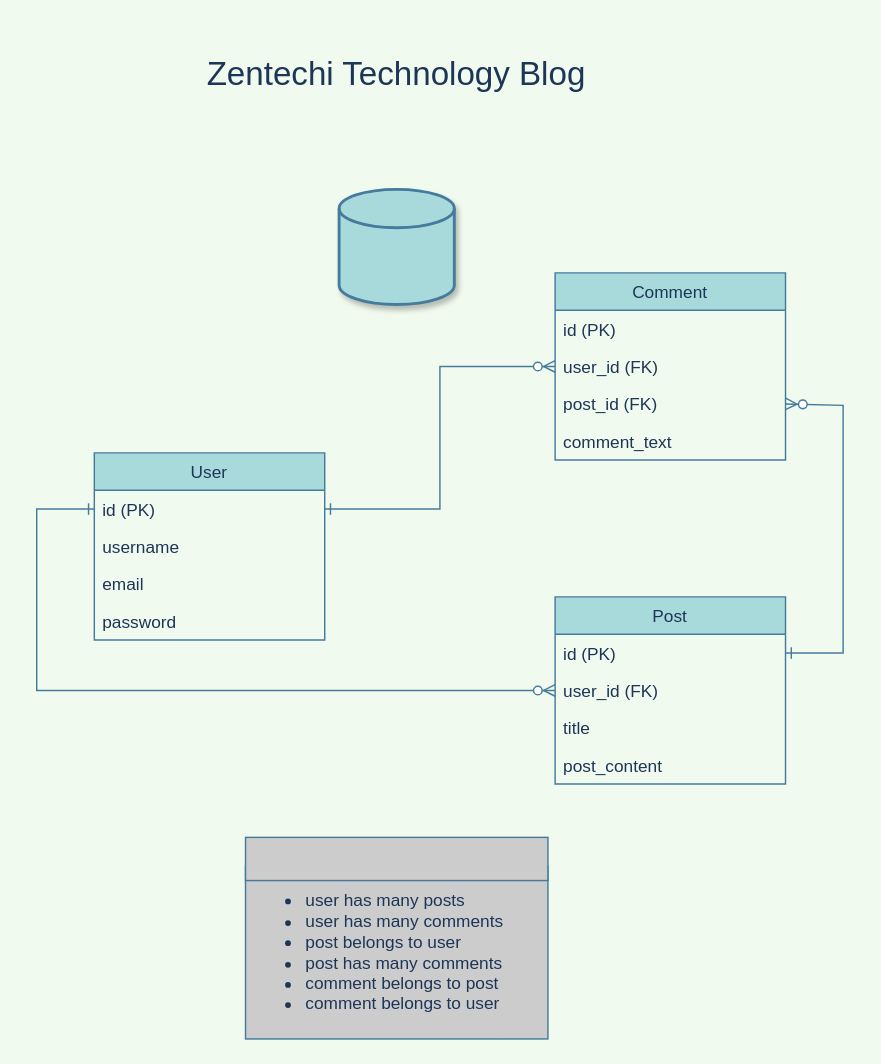
Image size: 881x1064. Some labels were removed from this diagram. The shapes that lost their labels are listed below. From the top down, each one's centre as x and y in pixels, then its label:
point (397, 248): zentechi_db
point (396, 858): Associations
